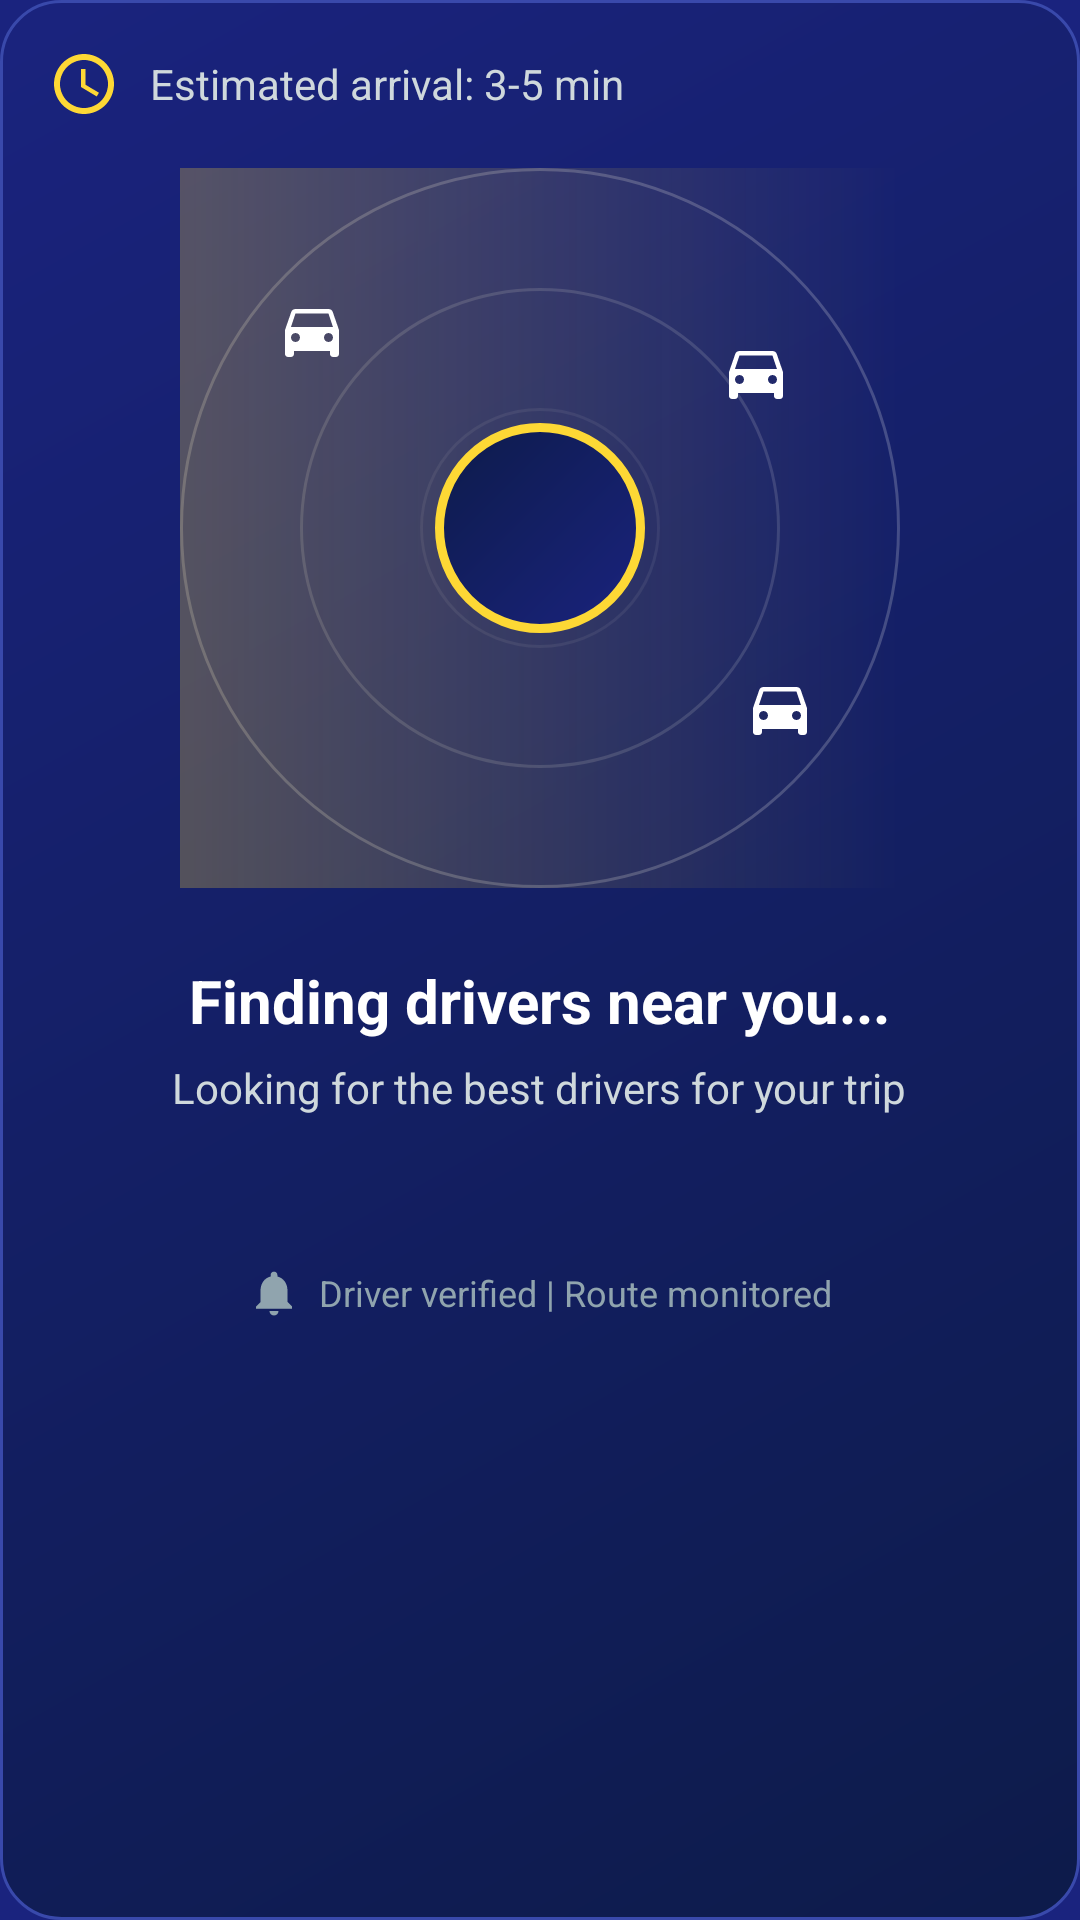

Icons on this 1080px×1920px Android screen, each with its box as [left=x1, top=y1, right=x2, bottom=y2]:
clock: [left=54, top=54, right=114, bottom=114]
